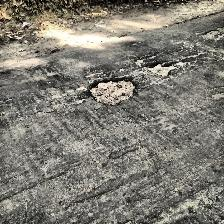pothole: (88, 76, 136, 106), (147, 62, 177, 76)
